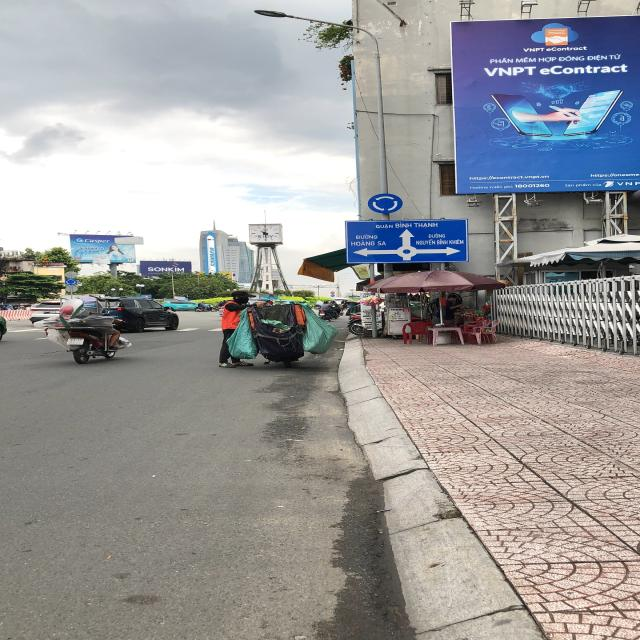Bien bao noi giao nhau chay theo vong xuyen: (367, 192, 405, 214)
